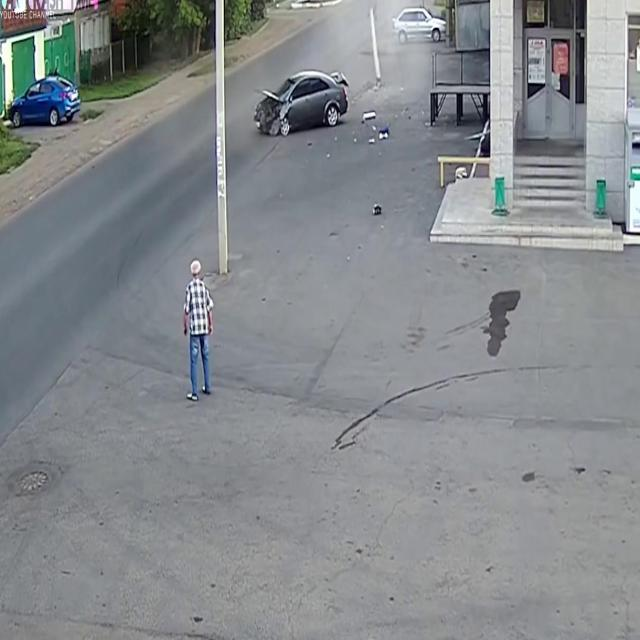accident: (246, 58, 402, 162)
